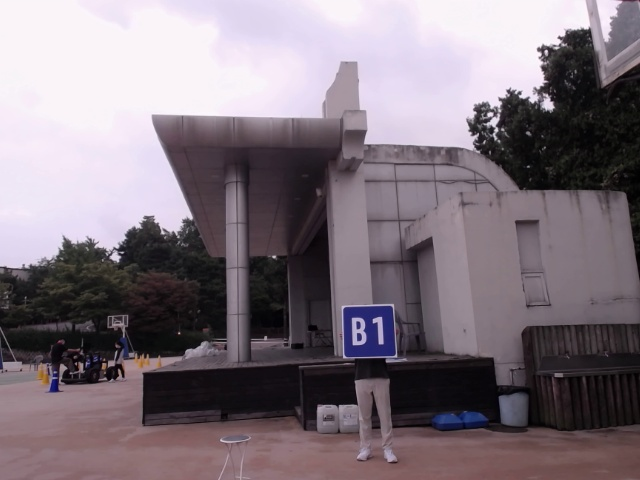delivery_b1: (342, 304, 397, 358)
